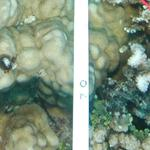alive: (3, 4, 148, 148)
